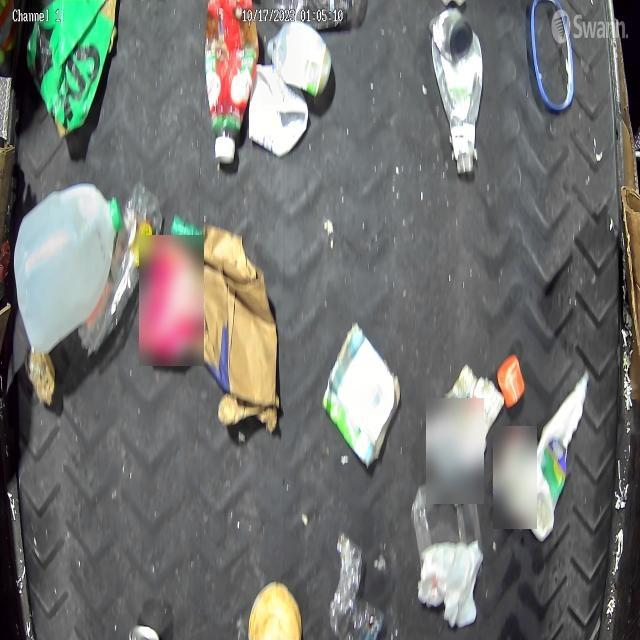milk_jug: (13, 182, 124, 358)
